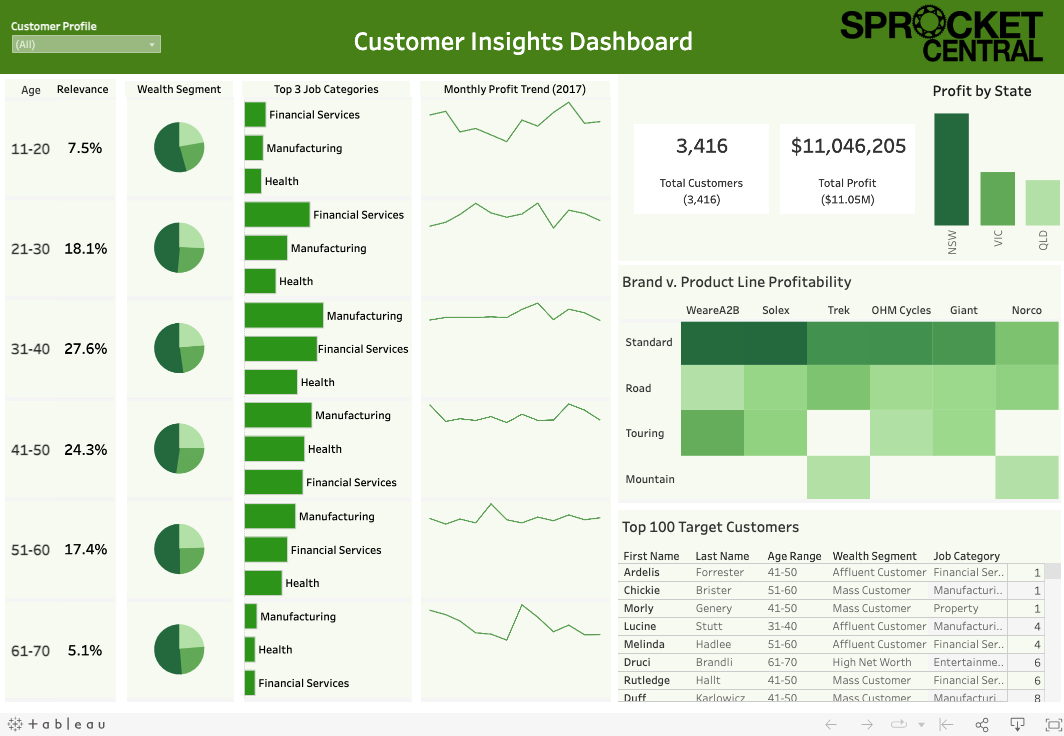

The page's visual inventory and layout, read from the dashboard file:
{"tool":"tableau","page":{"name":"Dashboard 3","canvas":[1200,800],"ordinal":2},"visuals":[{"type":"text","box":[395,11,391,82]},{"type":"image","param":"Image/sprocket_central_logo.png","box":[942,12,244,80]},{"type":"filter","title":"Age Relevance","param":"[federated.100slnm1eun1by1618kab12oimnt].[none:Customer Profile:nk]","box":[21,28,168,52]},{"type":"worksheet","title":"Age Relevance","mark":"Circle","rows":["Age Range"],"box":[8,90,136,702]},{"type":"worksheet","title":"Wealth Dist. by Age","mark":"Pie","rows":["Age Range"],"box":[144,90,130,702]},{"type":"worksheet","title":"Jobs by Age","mark":"Bar","rows":["Age Range","job_industry_category"],"cols":["Profit"],"box":[274,90,197,702]},{"type":"worksheet","title":"Profitability by Age (2)","mark":"Line","rows":["Age Range (Key Data Comp)","Profit","Profit (copy)_3439342772843474944"],"cols":["Transaction Date (copy)_3439342772861505544","transaction_date"],"box":[471,90,221,702]},{"type":"worksheet","title":"Location","mark":"Automatic","rows":["Profit"],"cols":["state"],"box":[1041,90,151,208]},{"type":"text","box":[72,92,61,30]},{"type":"text","box":[148,98,120,18]},{"type":"text","box":[278,98,187,18]},{"type":"text","box":[475,98,212,18]},{"type":"worksheet","title":"Total Customers","mark":"Automatic","box":[713,145,150,100]},{"type":"worksheet","title":"Total Profit","mark":"Automatic","box":[875,145,150,100]},{"type":"worksheet","title":"Brand-Line Parameter Heatmap","mark":"Square","rows":["product_line"],"cols":["brand"],"box":[692,298,500,273]},{"type":"worksheet","title":"Target Customers","mark":"Automatic","rows":["first_name","last_name","Age Range","wealth_segment","job_industry_category"],"box":[692,571,500,221]}]}

Visuals, with their boxes on the page's 1200x800 design canvas (x1, y1, x2, y2). These are canvas units, not pixel positions in the 1064x736 screenshot, which may show the page scaled, cropped or inside an application window:
text: 395 11 786 93
image: 942 12 1186 92
"Age Relevance" filter: 21 28 189 80
"Age Relevance" worksheet (Circle marks): 8 90 144 792
"Wealth Dist. by Age" worksheet (Pie marks): 144 90 274 792
"Jobs by Age" worksheet (Bar marks): 274 90 471 792
"Profitability by Age (2)" worksheet (Line marks): 471 90 692 792
"Location" worksheet: 1041 90 1192 298
text: 72 92 133 122
text: 148 98 268 116
text: 278 98 465 116
text: 475 98 687 116
"Total Customers" worksheet: 713 145 863 245
"Total Profit" worksheet: 875 145 1025 245
"Brand-Line Parameter Heatmap" worksheet (Square marks): 692 298 1192 571
"Target Customers" worksheet: 692 571 1192 792
